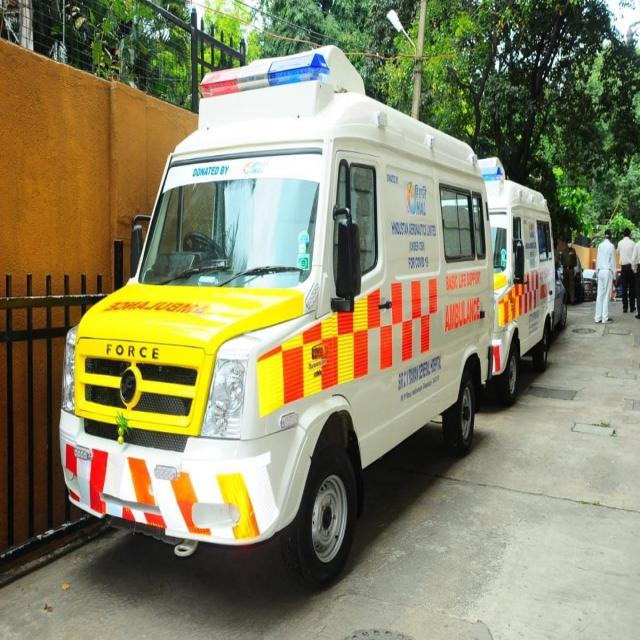emergency: (60, 45, 496, 585)
